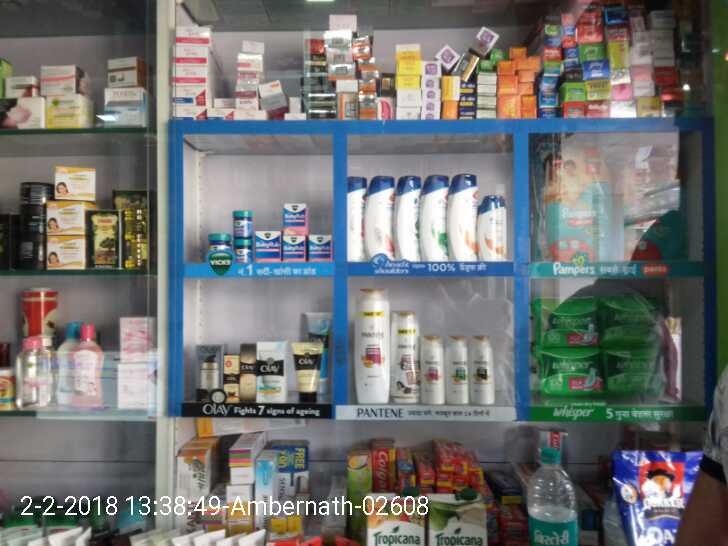vicks: (194, 201, 335, 268)
